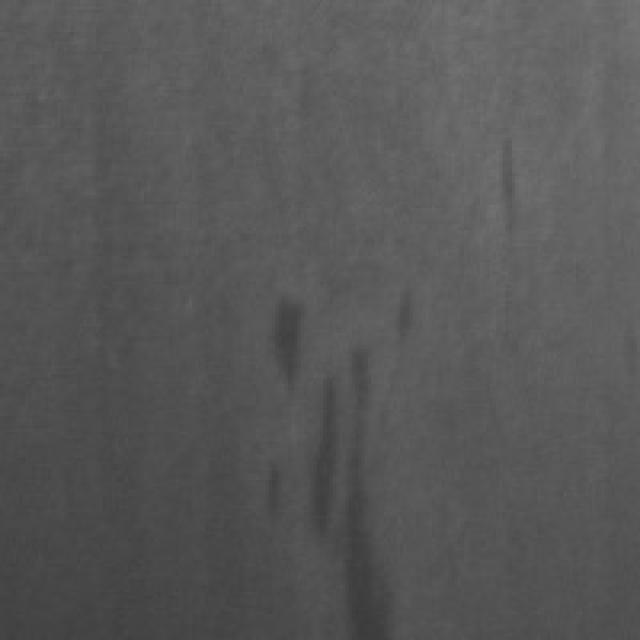inclusion: (268, 284, 426, 634), (259, 269, 323, 397), (490, 125, 534, 240)
